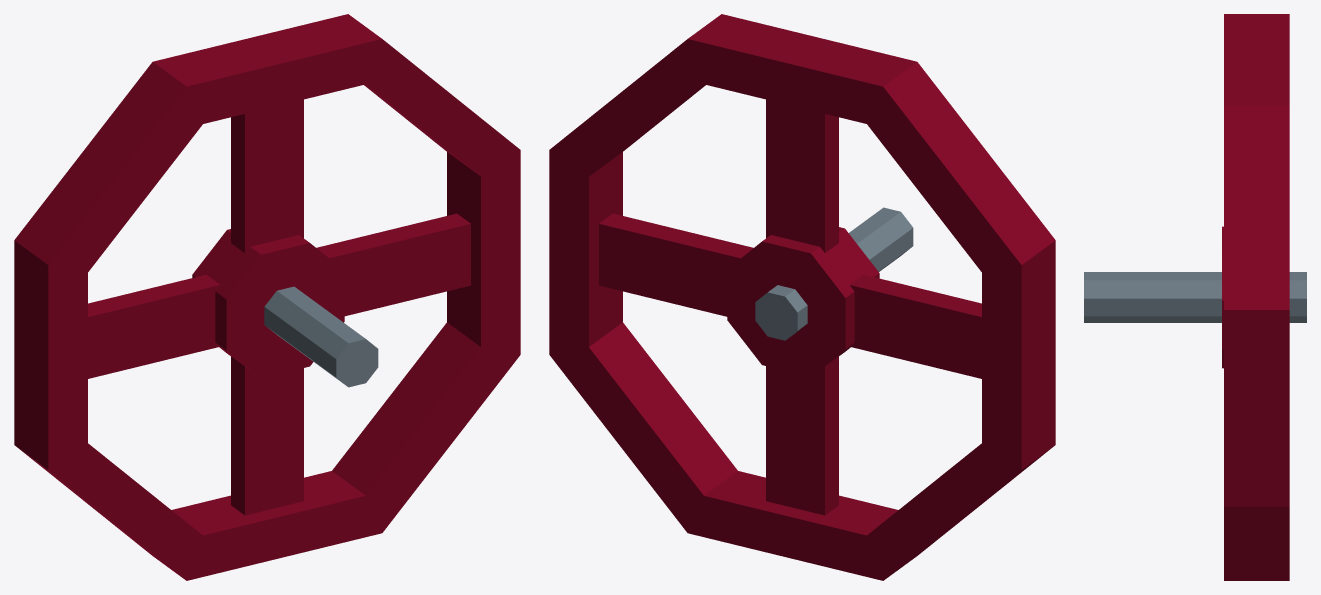
File: valve.glb
3 views of the same model, side by side, from view 1: azimuth 30°, elevation 25°; view 2: azimuth 150°, elevation 25°; view 3: azimuth 270°, elevation 25° (orthographic). The views are drawn at different scales.
Visible parts, largest first — view 1: tube; view 2: tube; view 3: tube.
Part boxes in pixels (x1,y1,x2,y2): tube: [14, 14, 520, 580]; tube: [549, 14, 1055, 580]; tube: [1084, 14, 1306, 580].
Bounding box in the file's own units: 2.25 × 2.25 × 0.9566.
Materials: 2 (2 with a texture image).
